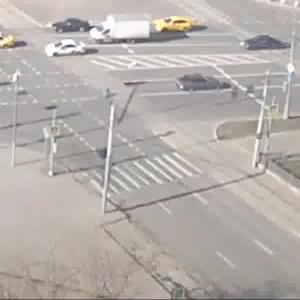car: (94, 20, 150, 50), (177, 75, 225, 97), (44, 38, 90, 60), (59, 16, 92, 41), (151, 18, 198, 35), (240, 35, 282, 53)
